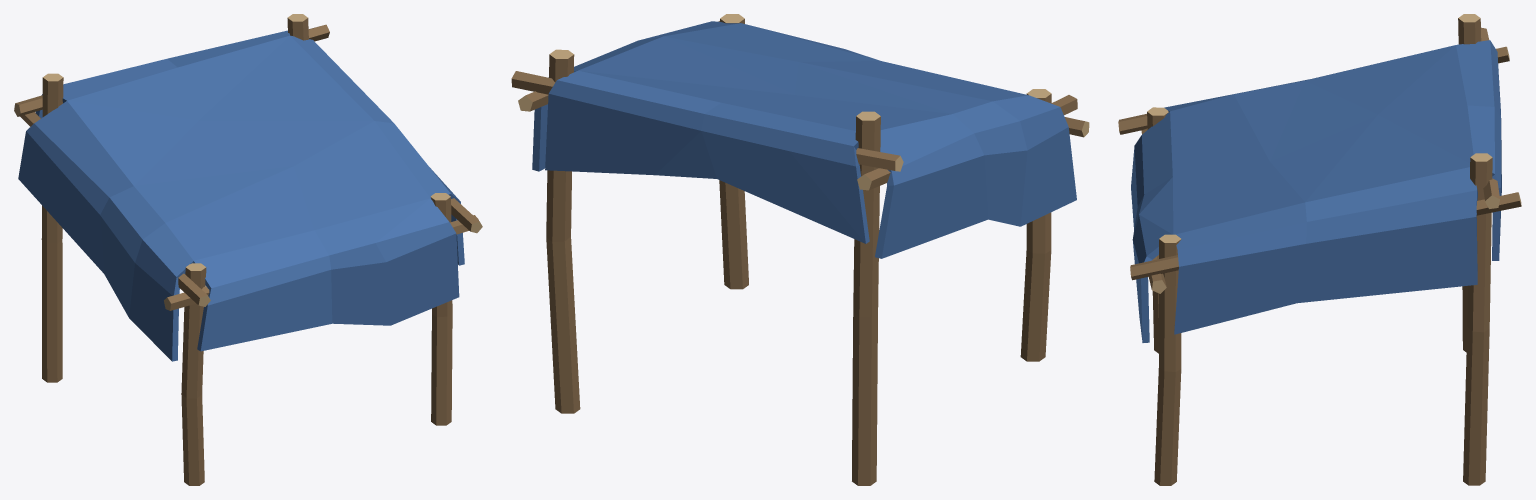
Rendered from rpgpp_ag_awning_standing_01b.fbx.
3 views of the same model, side by side, from view 1: azimuth 30°, elevation 25°; view 2: azimuth 150°, elevation 25°; view 3: azimuth 270°, elevation 25° (orthographic). The views are drawn at different scales.
Visible parts, largest first — view 1: rpgpp_ag_awning_standing_01b; view 2: rpgpp_ag_awning_standing_01b; view 3: rpgpp_ag_awning_standing_01b.
Part boxes in pixels (x1,y1,x2,y2): rpgpp_ag_awning_standing_01b: (14, 14, 482, 485); rpgpp_ag_awning_standing_01b: (511, 14, 1089, 485); rpgpp_ag_awning_standing_01b: (1118, 14, 1521, 485).
Size of the model in its own units: 3.32 by 3.03 by 3.35.
